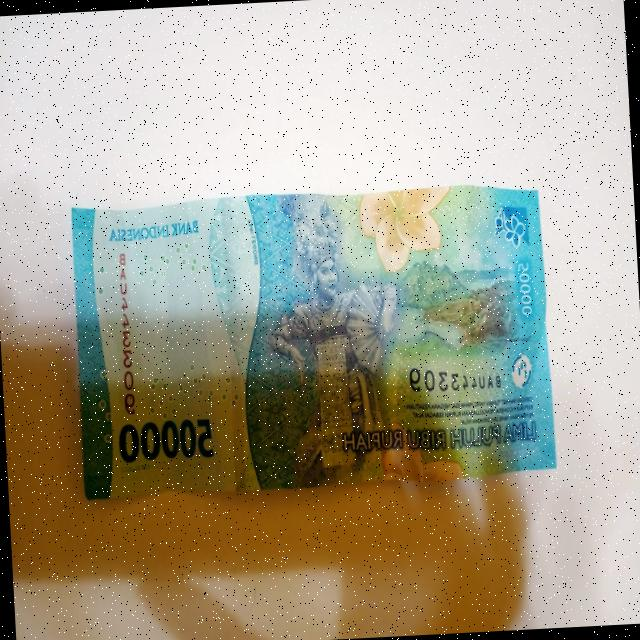50K: (56, 172, 564, 509)
